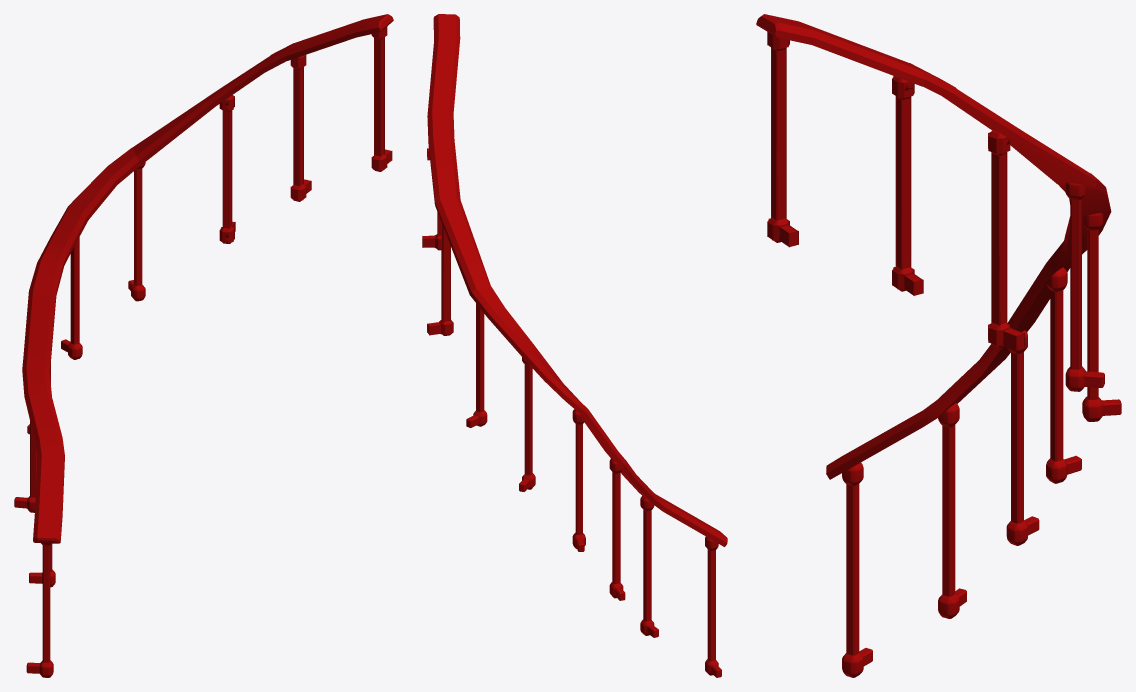
The model's file is test_rail8.fbx.
3 views of the same model, side by side, from view 1: azimuth 30°, elevation 25°; view 2: azimuth 150°, elevation 25°; view 3: azimuth 270°, elevation 25° (orthographic). The views are drawn at different scales.
Parts seen in each view (by area): view 1: pCube45; view 2: pCube45; view 3: pCube45.
Boxes of the visible parts, <box> form: pCube45: <box>14,14,393,677</box>; pCube45: <box>422,14,727,677</box>; pCube45: <box>756,14,1121,677</box>.
Bounding box in the file's own units: 13.46 × 22.93 × 8.66.
